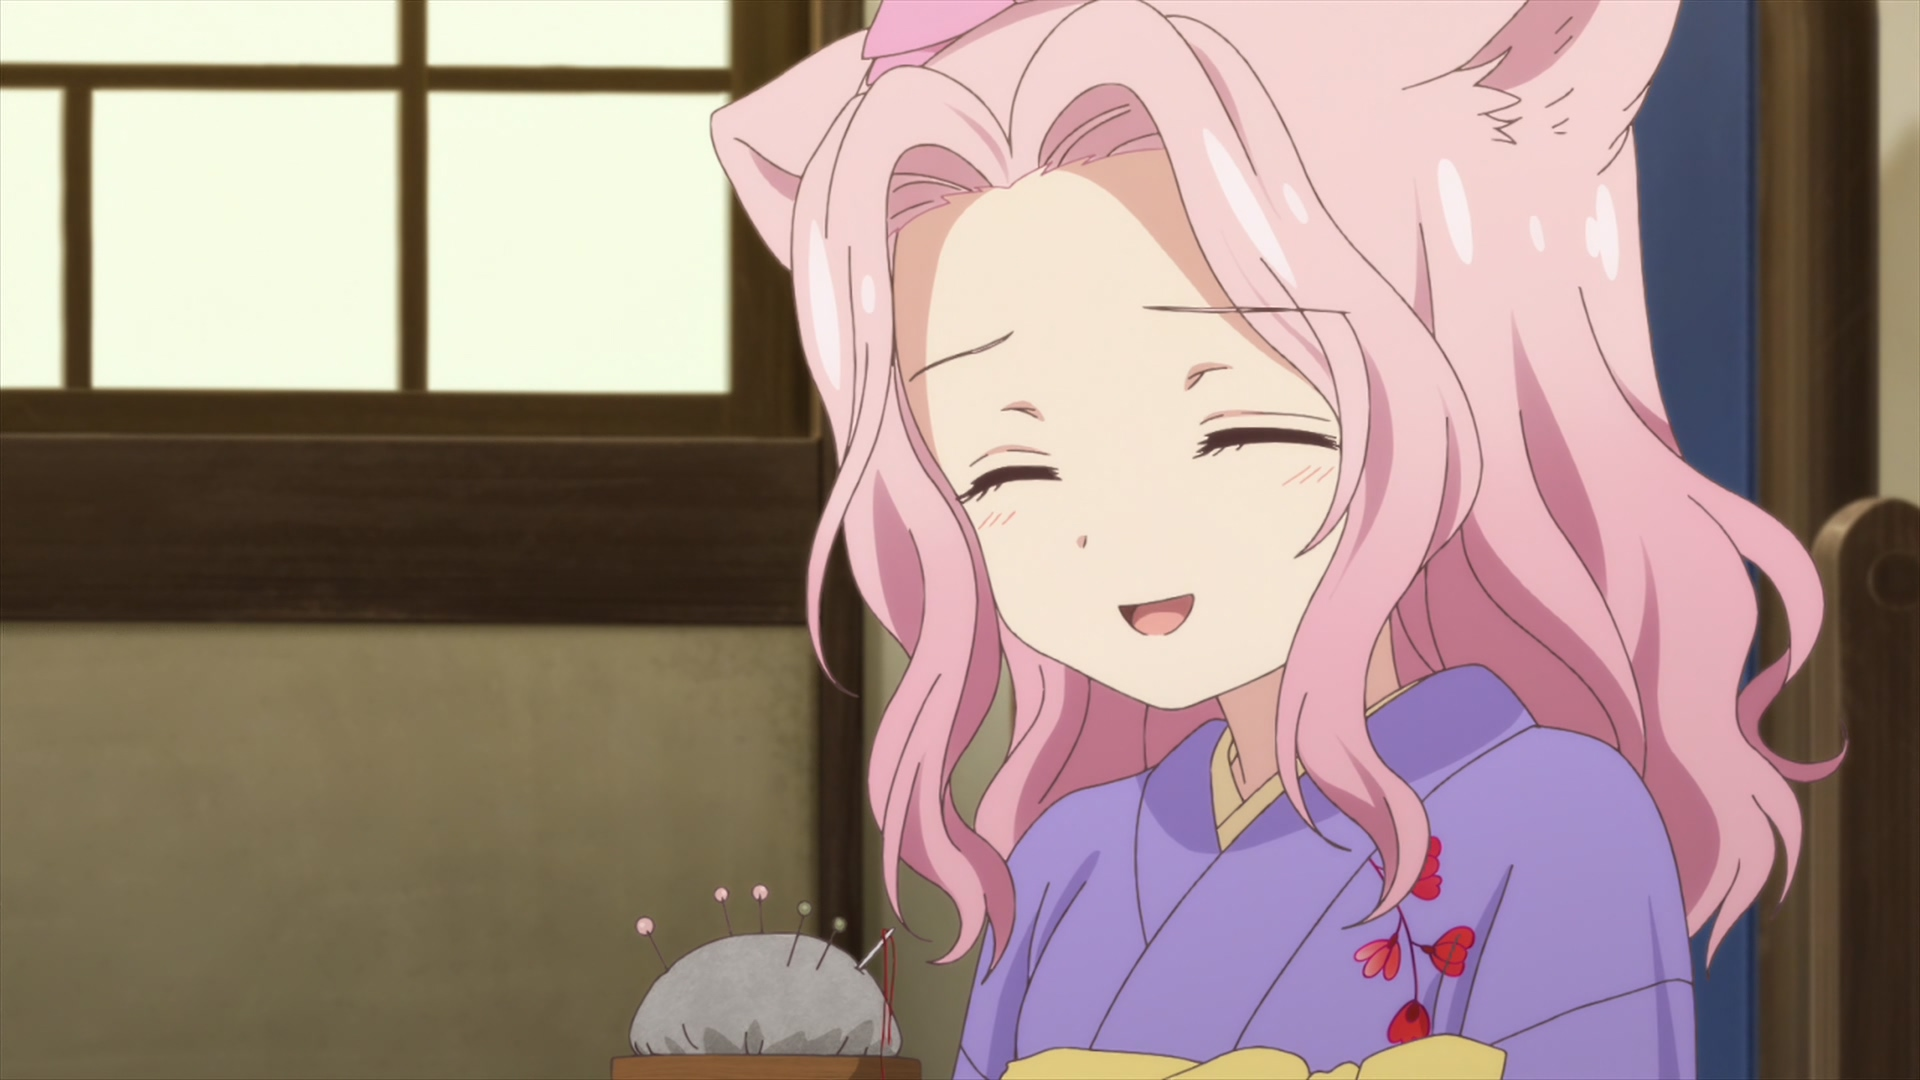莲: (709, 1, 1849, 1080)
